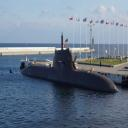submarine: (11, 31, 121, 93)
